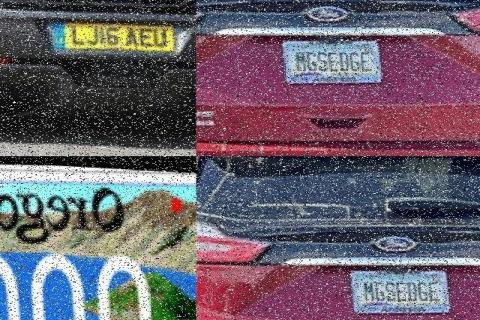LicensePlate: (0, 228, 172, 320), (280, 35, 381, 80), (348, 265, 449, 310), (51, 22, 174, 48)
